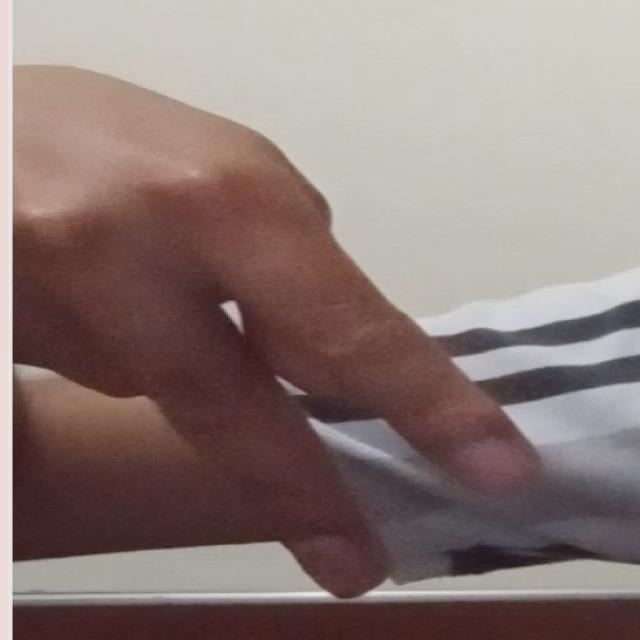K: (9, 53, 544, 604)
